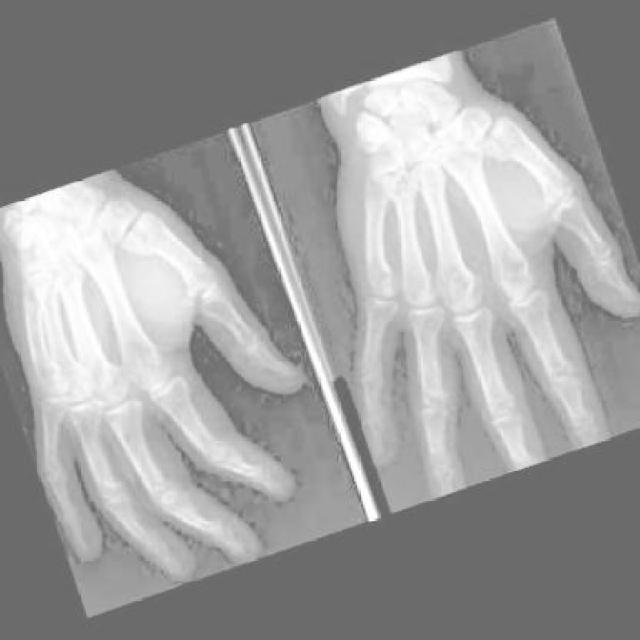Fracture: (482, 128, 528, 177), (120, 225, 159, 270)
